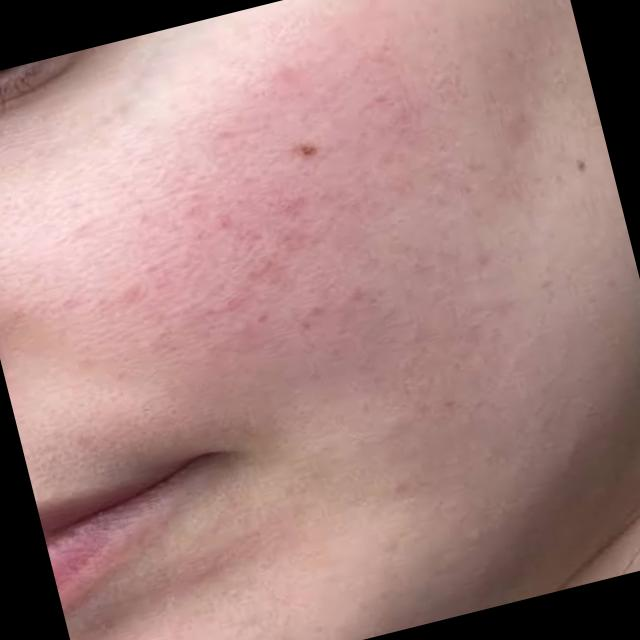redness: (87, 15, 524, 382)
